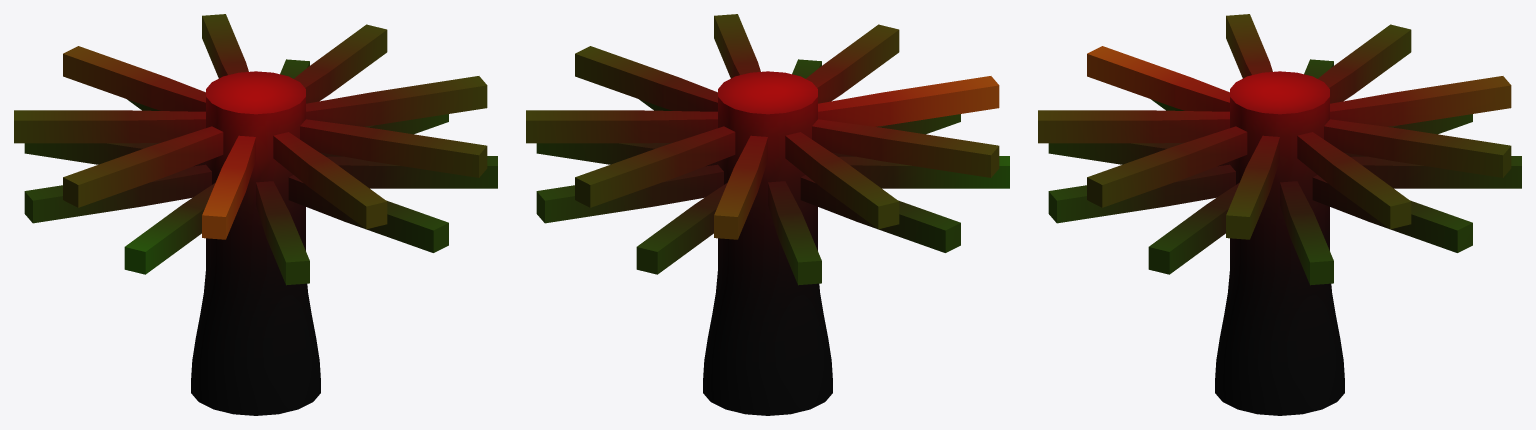
File: TreeVertexColor.fbx
The picture shows the model from 3 angles, left to right: view 1: azimuth 30°, elevation 25°; view 2: azimuth 150°, elevation 25°; view 3: azimuth 270°, elevation 25°; orthographic projection.
Visible parts, largest first — view 1: Cylinder001; view 2: Cylinder001; view 3: Cylinder001.
Part boxes in pixels (x1,y1,x2,y2): Cylinder001: [14, 14, 497, 415]; Cylinder001: [526, 14, 1009, 415]; Cylinder001: [1038, 14, 1521, 415].
Size of the model in its own units: 73.04 by 49.5 by 73.52.
